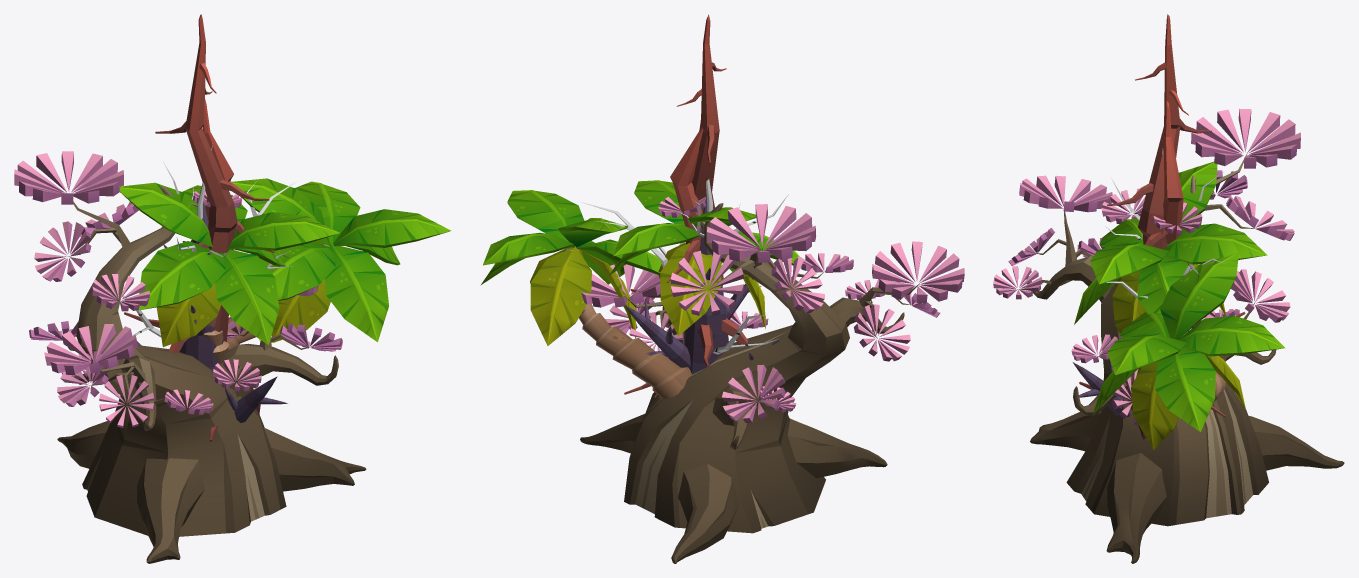
Rendered from tree_selection.glb.
The picture shows the model from 3 angles, left to right: view 1: azimuth 30°, elevation 25°; view 2: azimuth 150°, elevation 25°; view 3: azimuth 270°, elevation 25°; orthographic projection.
Visible parts, largest first — view 1: ancient_tree_pink_1, coconut1, coconut2, pine4, creepy_tree1, birch7, pine5; view 2: ancient_tree_pink_1, coconut2, coconut1, creepy_tree1, pine4, pine5, birch7; view 3: ancient_tree_pink_1, coconut2, coconut1, pine4, pine5, creepy_tree1, birch7.
Boxes of the visible parts, box(x1,y1,x2,y2) form: ancient_tree_pink_1: box(14, 151, 366, 563); coconut1: box(119, 182, 339, 359); coconut2: box(227, 178, 451, 349); pine4: box(124, 14, 269, 441); creepy_tree1: box(137, 201, 287, 422); birch7: box(122, 143, 298, 337); pine5: box(168, 99, 274, 353); ancient_tree_pink_1: box(580, 197, 964, 563); coconut2: box(480, 190, 691, 398); coconut1: box(609, 180, 816, 336); creepy_tree1: box(624, 197, 779, 374); pine4: box(630, 14, 726, 367); pine5: box(624, 120, 748, 398); birch7: box(581, 179, 788, 354); ancient_tree_pink_1: box(993, 108, 1344, 563); coconut2: box(1093, 252, 1285, 449); coconut1: box(1074, 161, 1267, 338); pine4: box(1079, 14, 1245, 439); pine5: box(1145, 100, 1225, 417); creepy_tree1: box(1072, 330, 1189, 416); birch7: box(1105, 148, 1225, 330).
Bounding box in the file's own units: 17.21 × 18.54 × 12.32.
2 materials, 2 textured.
